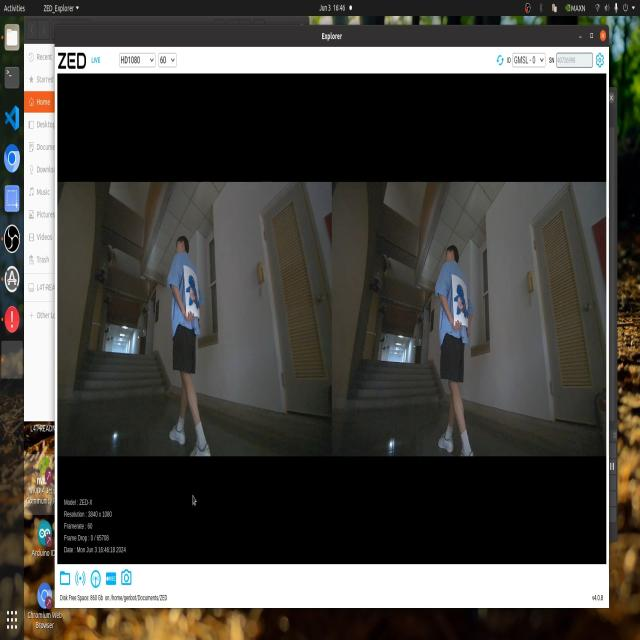blue: (180, 270, 197, 316), (458, 280, 461, 327)
